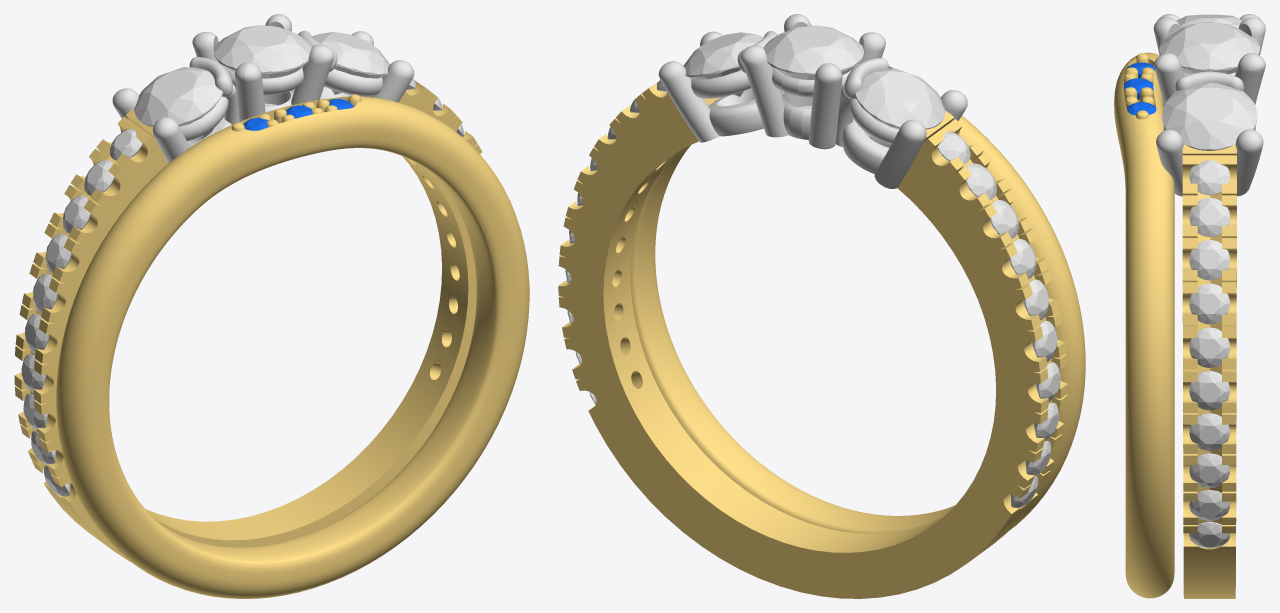
Rendered from LuDiaSapphBoth.glb.
3 views of the same model, side by side, from view 1: azimuth 30°, elevation 25°; view 2: azimuth 150°, elevation 25°; view 3: azimuth 270°, elevation 25° (orthographic). The views are drawn at different scales.
Visible parts, largest first — view 1: v2 Lu YG wb both stones for 3d model, v2 Lu YG wb both stones for 3d model.018, v2 Lu dia both wb for 3d model.013, v2 Lu dia both wb for 3d model.014, v2 Lu dia both wb for 3d model.025, v2 Lu YG wb both stones for 3d model.013, v2 Lu YG wb both stones for 3d model.014, v2 Lu YG wb both stones for 3d model.011, v2 Lu YG wb both stones for 3d model.029, v2 Lu YG wb both stones for 3d model.032, v2 Lu YG wb both stones for 3d model.021, v2 Lu YG wb both stones for 3d model.017 (+6 smaller); view 2: v2 Lu YG wb both stones for 3d model.018, v2 Lu YG wb both stones for 3d model, v2 Lu dia both wb for 3d model.013, v2 Lu dia both wb for 3d model.014, v2 Lu YG wb both stones for 3d model.012, v2 Lu YG wb both stones for 3d model.015, v2 Lu dia both wb for 3d model.025, v2 Lu YG wb both stones for 3d model.031, v2 Lu YG wb both stones for 3d model.030, v2 Lu YG wb both stones for 3d model.019, v2 Lu YG wb both stones for 3d model.020, v2 Lu YG wb both stones for 3d model.011 (+9 smaller); view 3: v2 Lu YG wb both stones for 3d model, v2 Lu YG wb both stones for 3d model.018, v2 Lu dia both wb for 3d model.025, v2 Lu dia both wb for 3d model.014, v2 Lu YG wb both stones for 3d model.031, v2 Lu dia both wb for 3d model.018, v2 Lu dia both wb for 3d model.017, v2 Lu dia both wb for 3d model.019, v2 Lu dia both wb for 3d model.020, v2 Lu YG wb both stones for 3d model.032, v2 Lu dia both wb for 3d model.016, v2 Lu dia both wb for 3d model.021 (+12 smaller).
Boxes of the visible parts, left/top/right/bottom form: v2 Lu YG wb both stones for 3d model: left=56, top=96, right=529, bottom=598; v2 Lu YG wb both stones for 3d model.018: left=14, top=80, right=482, bottom=561; v2 Lu dia both wb for 3d model.013: left=134, top=67, right=223, bottom=126; v2 Lu dia both wb for 3d model.014: left=214, top=25, right=311, bottom=78; v2 Lu dia both wb for 3d model.025: left=312, top=32, right=389, bottom=94; v2 Lu YG wb both stones for 3d model.013: left=291, top=44, right=334, bottom=104; v2 Lu YG wb both stones for 3d model.014: left=235, top=62, right=265, bottom=121; v2 Lu YG wb both stones for 3d model.011: left=324, top=69, right=382, bottom=96; v2 Lu YG wb both stones for 3d model.029: left=152, top=117, right=190, bottom=163; v2 Lu YG wb both stones for 3d model.032: left=370, top=60, right=414, bottom=102; v2 Lu YG wb both stones for 3d model.021: left=179, top=96, right=228, bottom=141; v2 Lu YG wb both stones for 3d model.017: left=219, top=62, right=303, bottom=95; v2 Lu YG wb both stones for 3d model.018: left=558, top=65, right=1068, bottom=598; v2 Lu YG wb both stones for 3d model: left=630, top=66, right=1085, bottom=533; v2 Lu dia both wb for 3d model.013: left=854, top=68, right=945, bottom=129; v2 Lu dia both wb for 3d model.014: left=763, top=25, right=863, bottom=79; v2 Lu YG wb both stones for 3d model.012: left=740, top=45, right=788, bottom=137; v2 Lu YG wb both stones for 3d model.015: left=808, top=63, right=842, bottom=149; v2 Lu dia both wb for 3d model.025: left=683, top=32, right=763, bottom=96; v2 Lu YG wb both stones for 3d model.031: left=658, top=61, right=719, bottom=142; v2 Lu YG wb both stones for 3d model.030: left=874, top=119, right=926, bottom=188; v2 Lu YG wb both stones for 3d model.019: left=708, top=88, right=763, bottom=136; v2 Lu YG wb both stones for 3d model.020: left=842, top=119, right=890, bottom=173; v2 Lu YG wb both stones for 3d model.011: left=691, top=70, right=750, bottom=98; v2 Lu YG wb both stones for 3d model: left=1114, top=52, right=1174, bottom=598; v2 Lu YG wb both stones for 3d model.018: left=1182, top=144, right=1236, bottom=598; v2 Lu dia both wb for 3d model.025: left=1162, top=82, right=1257, bottom=150; v2 Lu dia both wb for 3d model.014: left=1159, top=22, right=1259, bottom=74; v2 Lu YG wb both stones for 3d model.031: left=1235, top=129, right=1263, bottom=196; v2 Lu dia both wb for 3d model.018: left=1189, top=283, right=1229, bottom=324; v2 Lu dia both wb for 3d model.017: left=1189, top=240, right=1229, bottom=280; v2 Lu dia both wb for 3d model.019: left=1189, top=327, right=1229, bottom=367; v2 Lu dia both wb for 3d model.020: left=1189, top=371, right=1229, bottom=410; v2 Lu YG wb both stones for 3d model.032: left=1156, top=129, right=1183, bottom=196; v2 Lu dia both wb for 3d model.016: left=1189, top=197, right=1229, bottom=236; v2 Lu dia both wb for 3d model.021: left=1189, top=413, right=1229, bottom=450.
Size of the model in its own units: 20.37 by 21.93 by 5.59.
